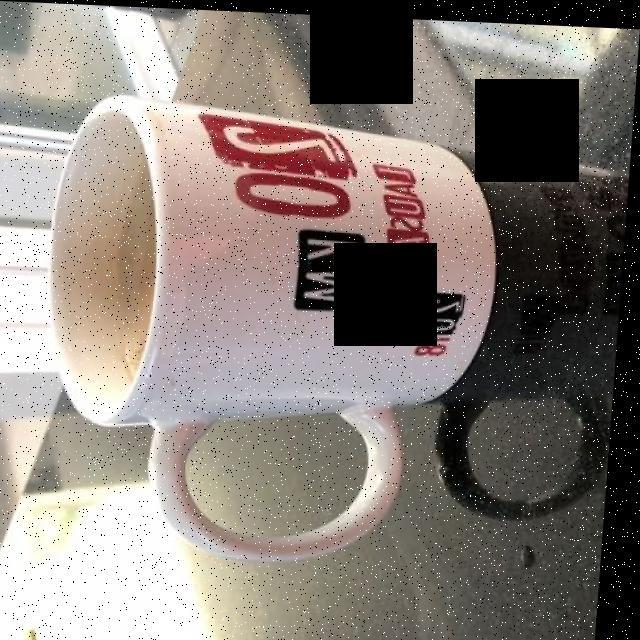coffee: (109, 138, 167, 384)
